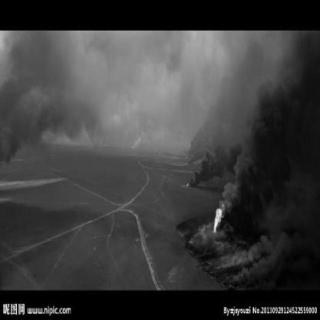Smoke: (188, 60, 255, 153), (196, 146, 244, 178)
